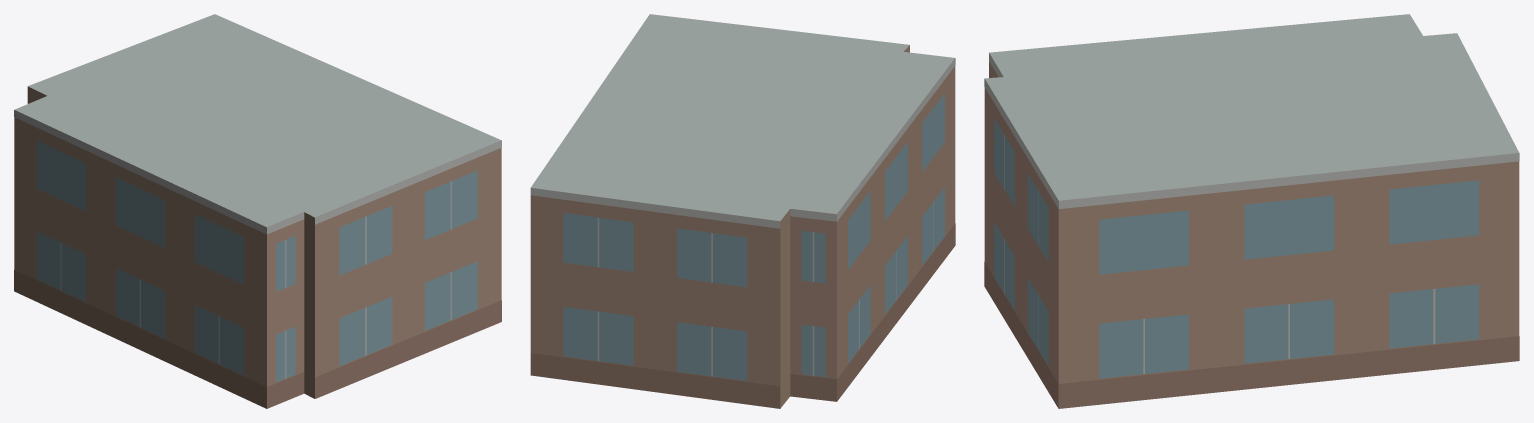
File: survey-upis-32920917.glb
The picture shows the model from 3 angles, left to right: view 1: azimuth 30°, elevation 25°; view 2: azimuth 150°, elevation 25°; view 3: azimuth 270°, elevation 25°; orthographic projection. The views are drawn at different scales.
Parts seen in each view (by area): view 1: survey-upis-32920917.tmp; view 2: survey-upis-32920917.tmp; view 3: survey-upis-32920917.tmp.
Boxes of the visible parts, bbox=[...] form: survey-upis-32920917.tmp: bbox=[14, 14, 501, 408]; survey-upis-32920917.tmp: bbox=[530, 14, 955, 408]; survey-upis-32920917.tmp: bbox=[984, 14, 1519, 408].
Bounding box in the file's own units: 11.77 × 6.1 × 14.23.
